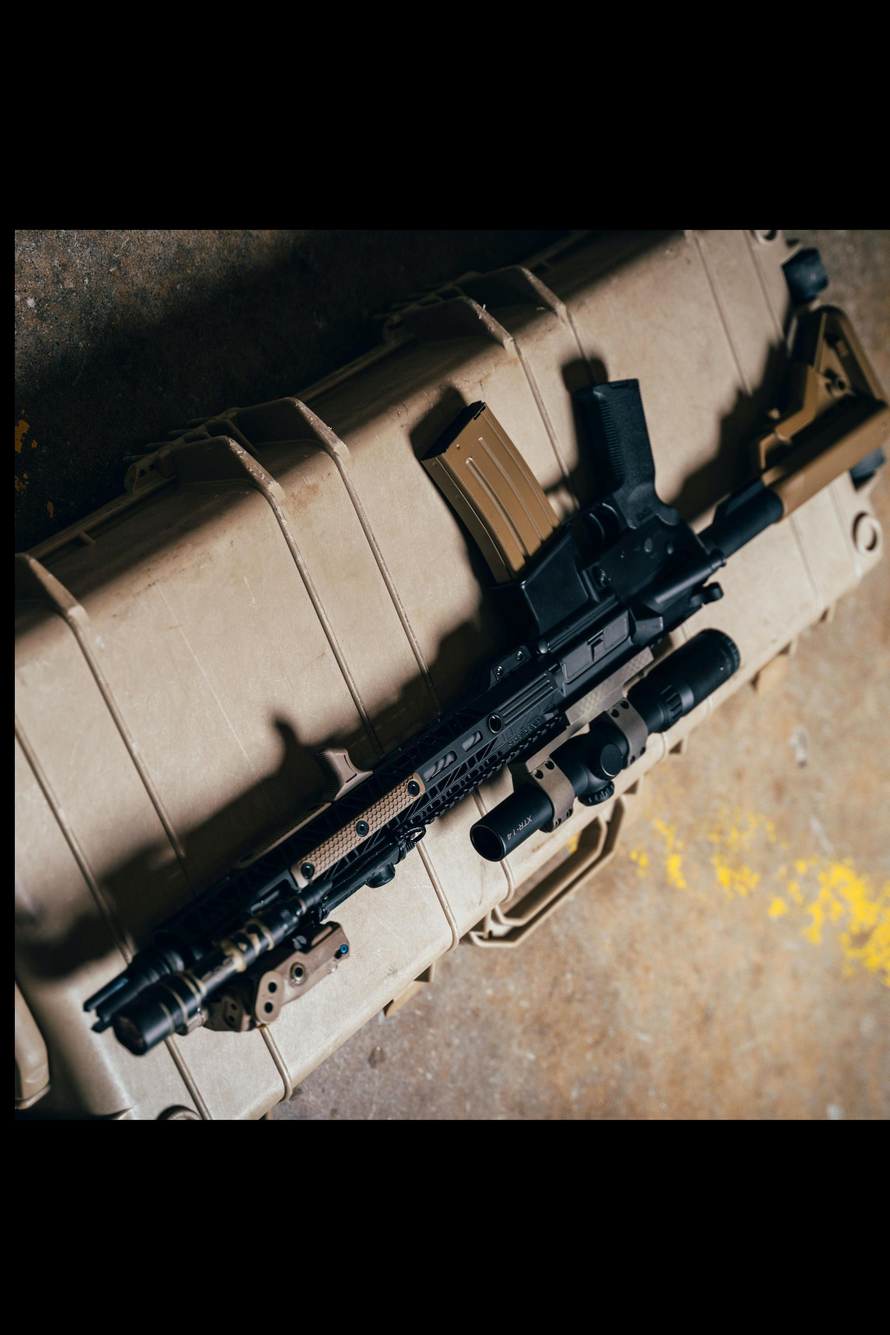larga: (81, 289, 890, 1061)
